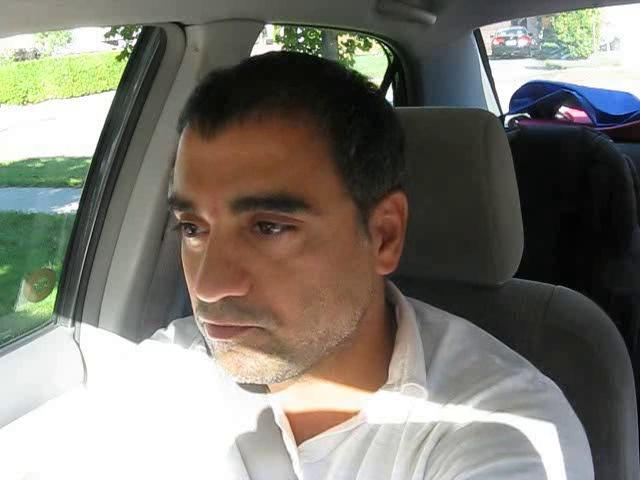no_yawn: (181, 309, 288, 360)
open_eyeL: (160, 210, 218, 249)
open_eyeR: (230, 203, 320, 250)
